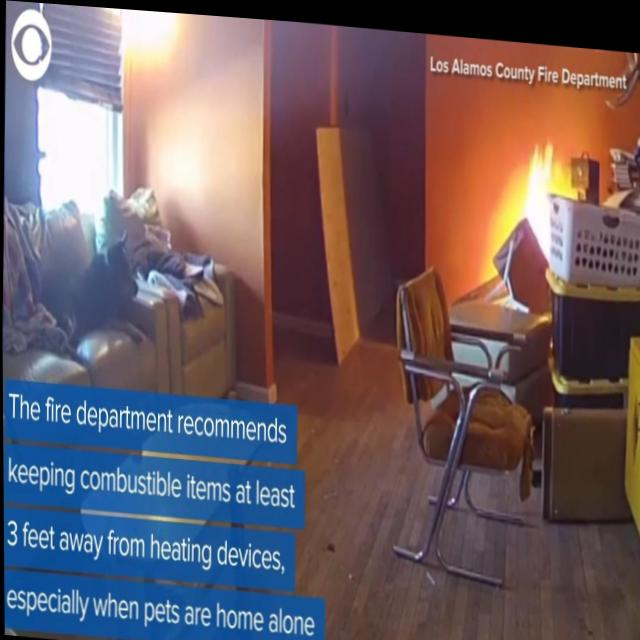fire: (510, 126, 570, 258)
